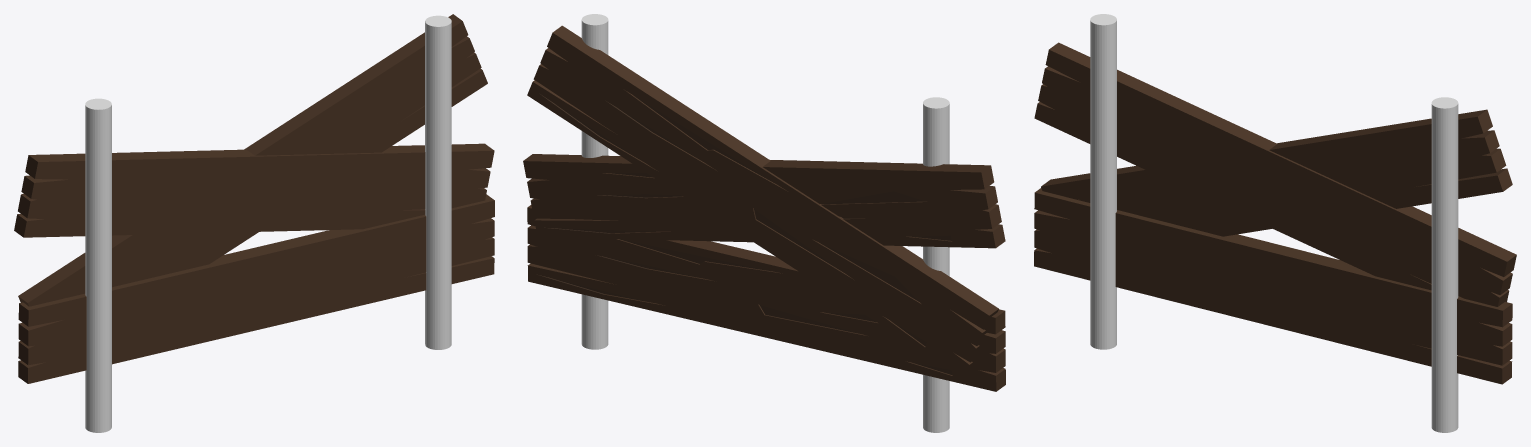
The model's file is Barrière Boss.fbx.
3 views of the same model, side by side, from view 1: azimuth 30°, elevation 25°; view 2: azimuth 150°, elevation 25°; view 3: azimuth 330°, elevation 25° (orthographic).
Parts seen in each view (by area): view 1: Cube.002, Cube.003, Cube.001, Cylindre, Cylindre.001; view 2: Cube.001, Cube.002, Cube.003, Cylindre, Cylindre.001; view 3: Cube.002, Cube.003, Cube.001, Cylindre.001, Cylindre.
Boxes of the visible parts, x1,y1,x2,y2 form: Cube.002: (18, 194, 494, 383); Cube.003: (14, 143, 494, 237); Cube.001: (18, 14, 487, 306); Cylindre: (85, 98, 111, 432); Cylindre.001: (425, 15, 451, 349); Cube.001: (527, 25, 998, 378); Cube.002: (527, 205, 1005, 391); Cube.003: (523, 154, 1005, 248); Cylindre: (923, 97, 949, 432); Cylindre.001: (581, 14, 608, 349); Cube.002: (1034, 188, 1512, 384); Cube.003: (1034, 42, 1516, 306); Cube.001: (1041, 109, 1512, 236); Cylindre.001: (1431, 97, 1458, 432); Cylindre: (1090, 14, 1116, 349).
Size of the model in its own units: 780 by 511 by 58.69.
